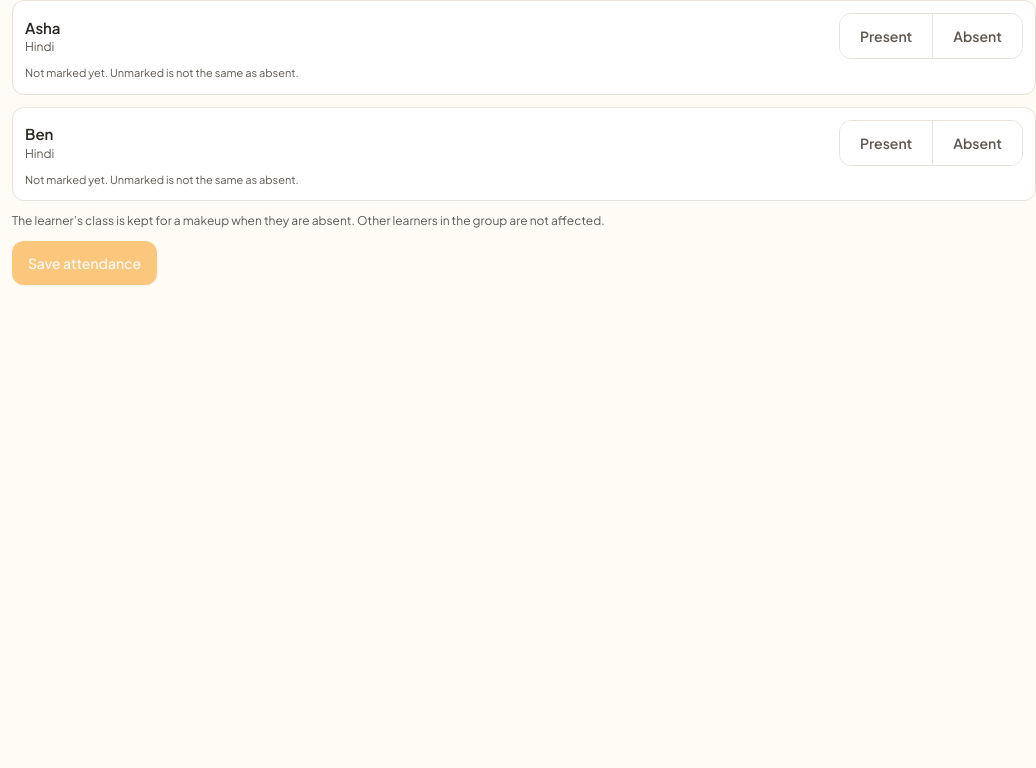
Test: AttendanceMarker › shows the server message when the attendance is locked by a finalized payout
The image size is (1036, 768).
Click the button "Present" in the row of "Asha".
click(886, 36)  # box [840, 14, 932, 58]
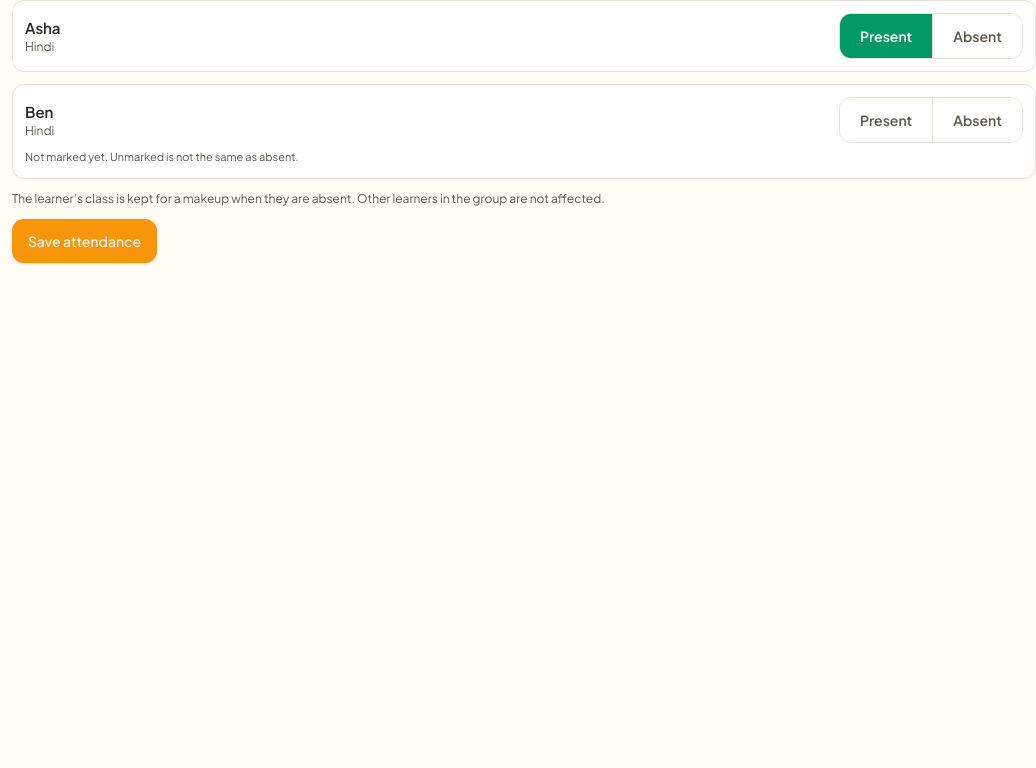
Click the button "Save attendance".
click(85, 240)  # box [12, 218, 157, 262]
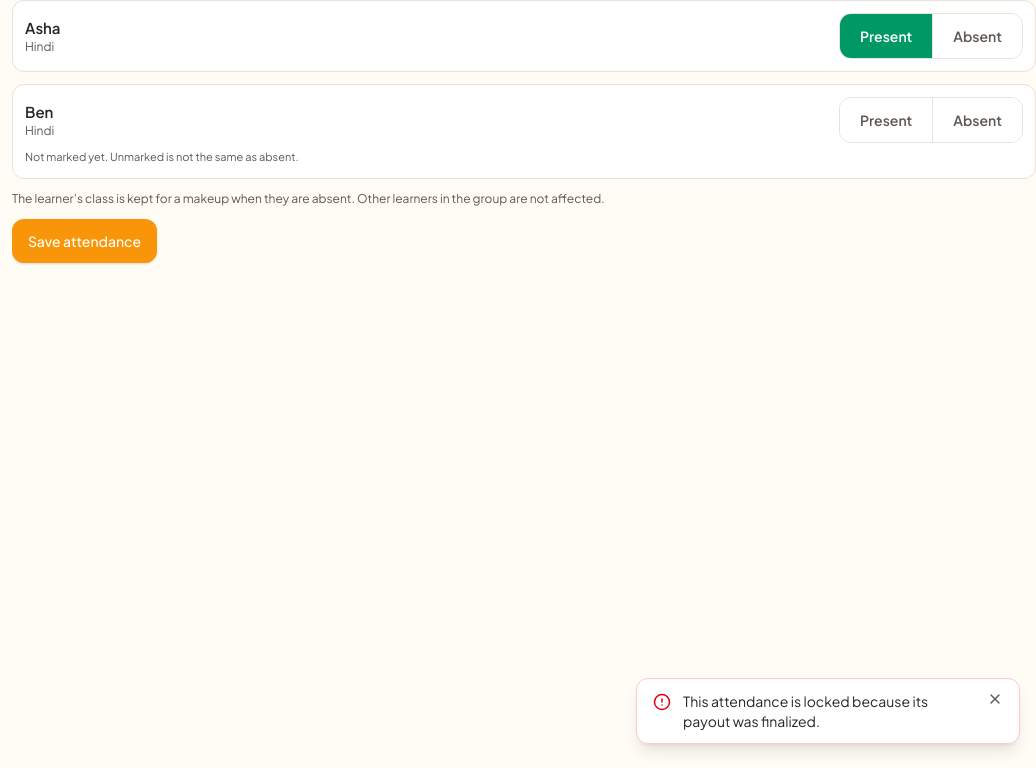
Expected: the text "This attendance is locked because its payout was finalized." is shown, [683, 692, 928, 730]
